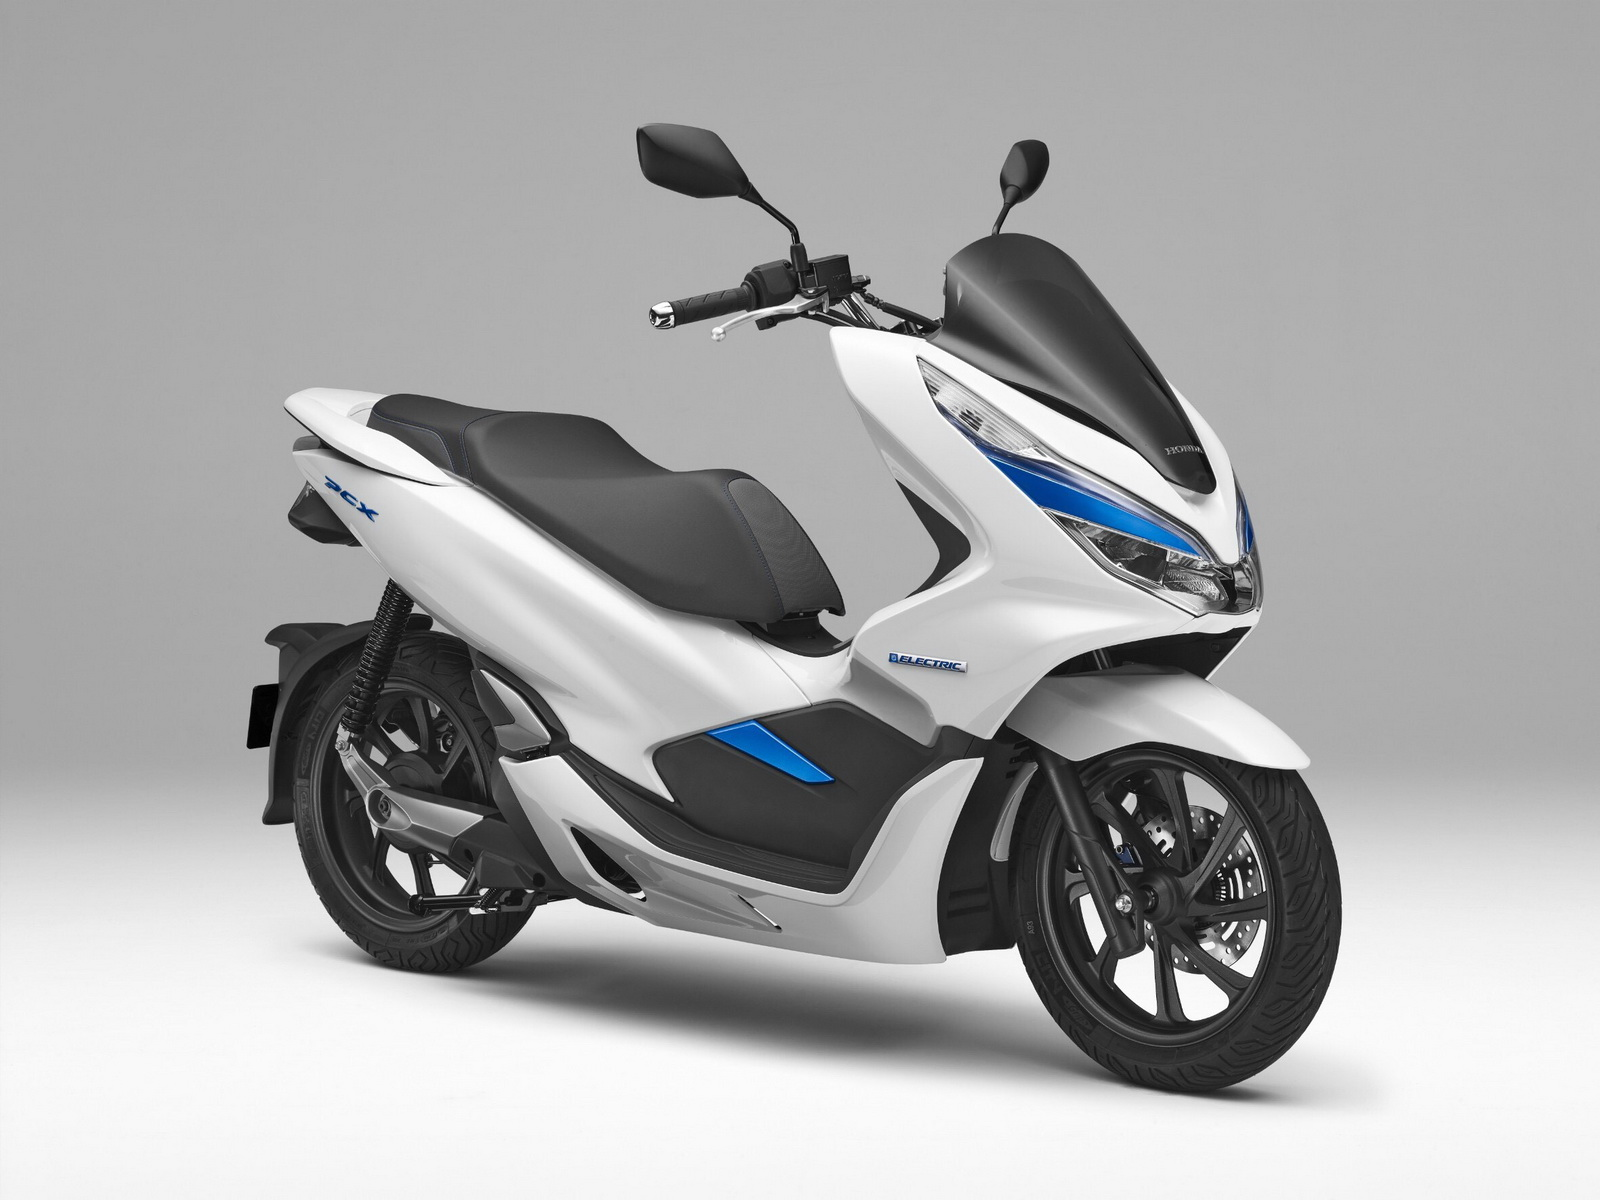motorcycle: (273, 239, 1337, 1093)
